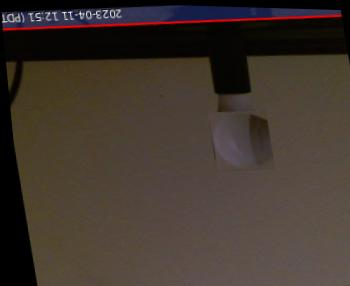Fan: (202, 106, 271, 171)
